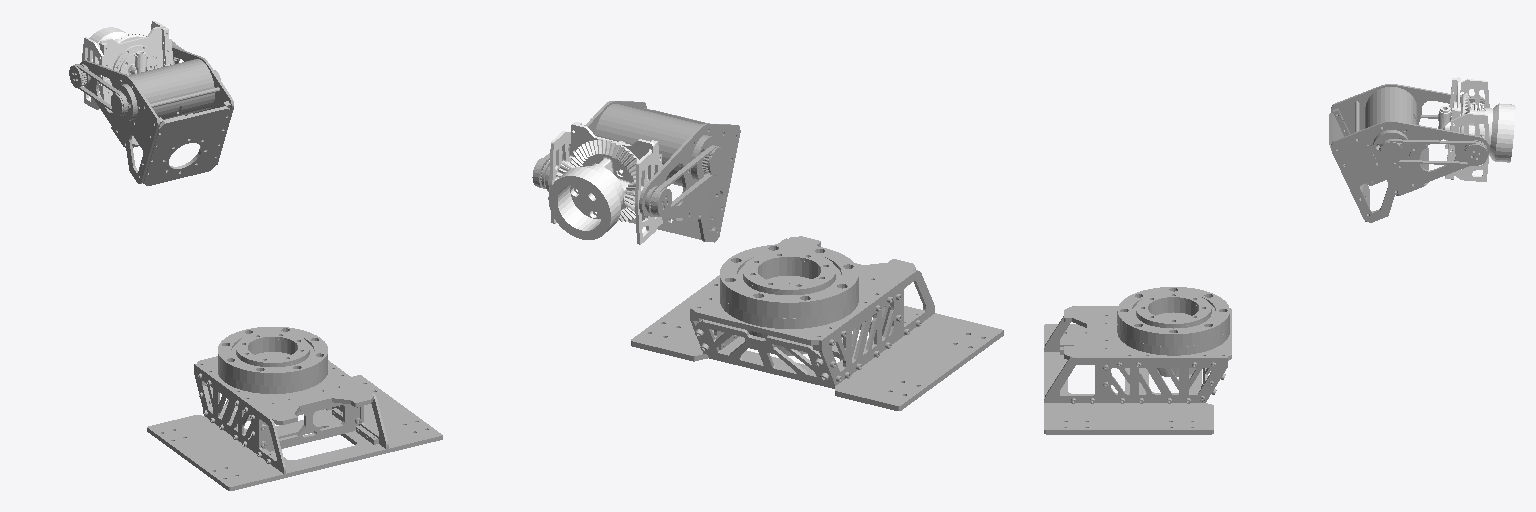
robot.urdf — levirobotarm:
<robot
  name="levirobotarm">
  <link
    name="base_link">
    <inertial>
      <origin
        xyz="-0.111499999999999 0.0918805537950462 0.0365980539672176"
        rpy="0 0 0" />
      <mass
        value="0.00001" />
      <inertia
        ixx="10"
        ixy="0.0"
        ixz="0.0"
        iyy="10"
        iyz="0.0"
        izz="10" />
    </inertial>
    <visual>
      <origin
        xyz="0 0 0"
        rpy="0 0 0" />
      <geometry>
        <mesh
          filename="package://levirobotarm/meshes/base_link.STL" />
      </geometry>
      <material
        name="">
        <color
          rgba="0.752941176470588 0.752941176470588 0.752941176470588 1" />
      </material>
    </visual>
    <collision>
      <origin
        xyz="0 0 0"
        rpy="0 0 0" />
      <geometry>
        <mesh
          filename="package://levirobotarm/meshes/base_link.STL" />
      </geometry>
    </collision>
  </link>
  <link
    name="link1">
    <inertial>
      <origin
        xyz="-0.00778060331848167 -0.0388119024395769 0.0619552439372352"
        rpy="0 0 0" />
      <mass
        value="0.00001" />
      <inertia
        ixx="10"
        ixy="0.0"
        ixz="0.0"
        iyy="10"
        iyz="0.0"
        izz="10" />
    </inertial>
    <visual>
      <origin
        xyz="0 0 0"
        rpy="0 0 0" />
      <geometry>
        <mesh
          filename="package://levirobotarm/meshes/link1.STL" />
      </geometry>
      <material
        name="">
        <color
          rgba="0.752941176470588 0.752941176470588 0.752941176470588 1" />
      </material>
    </visual>
    <collision>
      <origin
        xyz="0 0 0"
        rpy="0 0 0" />
      <geometry>
        <mesh
          filename="package://levirobotarm/meshes/link1.STL" />
      </geometry>
    </collision>
  </link>
  <joint
    name="joint1"
    type="revolute">
    <origin
      xyz="-0.1115 0.115 0.086005"
      rpy="0 0 0" />
    <parent
      link="base_link" />
    <child
      link="link1" />
    <axis
      xyz="0 0 1" />
    <limit
      lower="-3.14"
      upper="3.14"
      effort="100"
      velocity="1" />
  </joint>
  <link
    name="link2">
    <inertial>
      <origin
        xyz="0.144331724921429 0.0620422166073908 -0.0779934196333835"
        rpy="0 0 0" />
      <mass
        value="0.00001" />
      <inertia
        ixx="10"
        ixy="0.0"
        ixz="0.0"
        iyy="10"
        iyz="0.0"
        izz="10" />
    </inertial>
    <visual>
      <origin
        xyz="0 0 0"
        rpy="0 0 0" />
      <geometry>
        <mesh
          filename="package://levirobotarm/meshes/link2.STL" />
      </geometry>
      <material
        name="">
        <color
          rgba="0.752941176470588 0.752941176470588 0.752941176470588 1" />
      </material>
    </visual>
    <collision>
      <origin
        xyz="0 0 0"
        rpy="0 0 0" />
      <geometry>
        <mesh
          filename="package://levirobotarm/meshes/link2.STL" />
      </geometry>
    </collision>
  </link>
  <joint
    name="joint2"
    type="revolute">
    <origin
      xyz="0.078 0 0.07"
      rpy="1.5708 0 1.5708" />
    <parent
      link="link1" />
    <child
      link="link2" />
    <axis
      xyz="0 0 1" />
    <limit
      lower="-3.14"
      upper="3.14"
      effort="100"
      velocity="1" />
  </joint>
  <link
    name="link3">
    <inertial>
      <origin
        xyz="-0.0286035795024245 -6.58131857203535E-17 0.059028829051864"
        rpy="0 0 0" />
      <mass
        value="0.00001" />
      <inertia
        ixx="10"
        ixy="0.0"
        ixz="0.0"
        iyy="10"
        iyz="0.0"
        izz="10" />
    </inertial>
    <visual>
      <origin
        xyz="0 0 0"
        rpy="0 0 0" />
      <geometry>
        <mesh
          filename="package://levirobotarm/meshes/link3.STL" />
      </geometry>
      <material
        name="">
        <color
          rgba="0.752941176470588 0.752941176470588 0.752941176470588 1" />
      </material>
    </visual>
    <collision>
      <origin
        xyz="0 0 0"
        rpy="0 0 0" />
      <geometry>
        <mesh
          filename="package://levirobotarm/meshes/link3.STL" />
      </geometry>
    </collision>
  </link>
  <joint
    name="joint3"
    type="revolute">
    <origin
      xyz="0.19055 0.081915 -0.078"
      rpy="-1.5708 0 -1.1648" />
    <parent
      link="link2" />
    <child
      link="link3" />
    <axis
      xyz="0 0 1" />
    <limit
      lower="-3.14"
      upper="3.14"
      effort="100"
      velocity="1" />
  </joint>
  <link
    name="link4">
    <inertial>
      <origin
        xyz="0.00582902777519212 0.0115042950844536 0.0441999977693665"
        rpy="0 0 0" />
      <mass
        value="0.00001" />
      <inertia
        ixx="10"
        ixy="0.0"
        ixz="0.0"
        iyy="10"
        iyz="0.0"
        izz="10" />
    </inertial>
    <visual>
      <origin
        xyz="0 0 0"
        rpy="0 0 0" />
      <geometry>
        <mesh
          filename="package://levirobotarm/meshes/link4.STL" />
      </geometry>
      <material
        name="">
        <color
          rgba="1 1 1 1" />
      </material>
    </visual>
    <collision>
      <origin
        xyz="0 0 0"
        rpy="0 0 0" />
      <geometry>
        <mesh
          filename="package://levirobotarm/meshes/link4.STL" />
      </geometry>
    </collision>
  </link>
  <joint
    name="joint4"
    type="revolute">
    <origin
      xyz="0 0.0442 0.14258"
      rpy="-1.5708 0 -3.1416" />
    <parent
      link="link3" />
    <child
      link="link4" />
    <axis
      xyz="0 0 1" />
    <limit
      lower="-3.14"
      upper="3.14"
      effort="100"
      velocity="1" />
  </joint>
  <link
    name="link5">
    <inertial>
      <origin
        xyz="-0.000515168829007373 -3.74608036221751E-05 0.0234320257659483"
        rpy="0 0 0" />
      <mass
        value="0.00001" />
      <inertia
        ixx="10"
        ixy="0.0"
        ixz="0.0"
        iyy="10"
        iyz="0.0"
        izz="10" />
    </inertial>
    <visual>
      <origin
        xyz="0 0 0"
        rpy="0 0 0" />
      <geometry>
        <mesh
          filename="package://levirobotarm/meshes/link5.STL" />
      </geometry>
      <material
        name="">
        <color
          rgba="1 1 1 1" />
      </material>
    </visual>
    <collision>
      <origin
        xyz="0 0 0"
        rpy="0 0 0" />
      <geometry>
        <mesh
          filename="package://levirobotarm/meshes/link5.STL" />
      </geometry>
    </collision>
  </link>
  <joint
    name="joint5"
    type="revolute">
    <origin
      xyz="0.013418 0.024576 0.0442"
      rpy="-1.5708 0 2.6418" />
    <parent
      link="link4" />
    <child
      link="link5" />
    <axis
      xyz="0 0 1" />
    <limit
      lower="-3.14"
      upper="3.14"
      effort="100"
      velocity="1" />
  </joint>
</robot>

--- Facts derived from the render (not from the file) ---
The picture shows the robot from 3 angles, left to right: view 1: azimuth 30°, elevation 25°; view 2: azimuth 150°, elevation 25°; view 3: azimuth 270°, elevation 25°; orthographic projection.
Model levirobotarm with 6 links and 5 joints (5 revolute), rooted at base_link, posed all joints at 0.
Visible links, largest first — view 1: base_link, link3, link4, link5; view 2: base_link, link3, link5, link4; view 3: base_link, link3, link4, link5.
Link boxes in pixels (x1,y1,x2,y2): base_link: (147,327,442,490); link3: (69,41,233,185); link4: (83,21,172,111); link5: (82,27,159,75); base_link: (631,236,1003,410); link3: (532,101,740,242); link5: (548,139,648,239); link4: (549,122,662,244); base_link: (1044,287,1231,434); link3: (1329,84,1489,222); link4: (1445,77,1489,181); link5: (1438,93,1515,162).
Size in the robot's own frame: 0.268 by 0.5011 by 0.3417 metres.
Meshes: 6 distinct files referenced, 4 mesh visuals loaded (4 binary STL); not drawn: 2 (reference not matched to a file when rendering).
